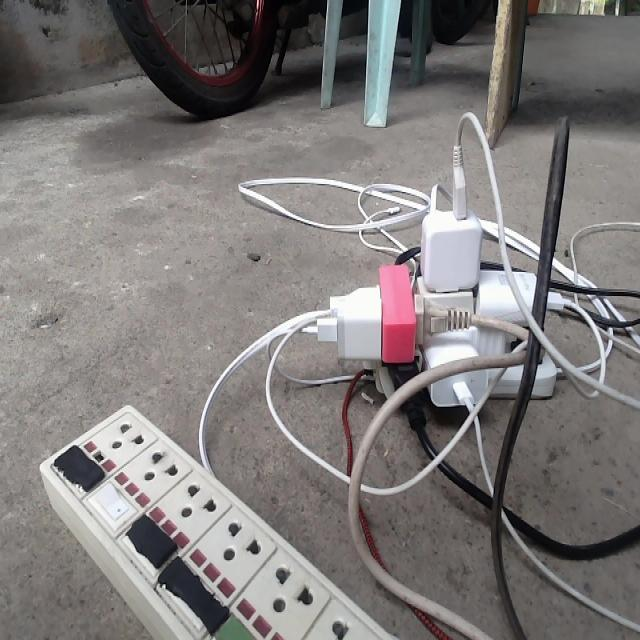-: (299, 131, 570, 432)
